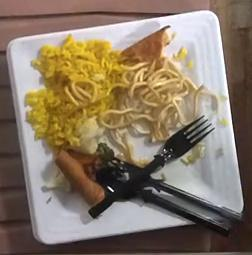asian_noodles: (99, 59, 203, 152)
pizza_crust: (54, 149, 102, 203), (120, 26, 171, 65)
rice: (24, 34, 117, 149)
